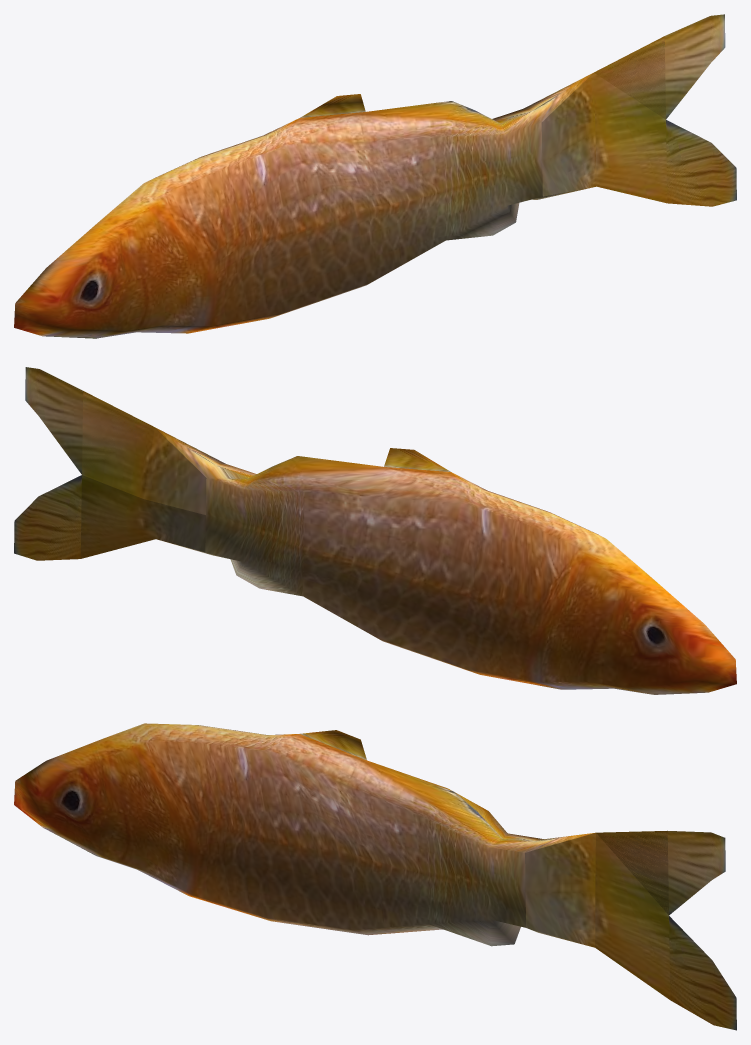
Rendered from fish2.fbx.
3 renders of one model, top to bottom at view 1: azimuth 30°, elevation 25°; view 2: azimuth 150°, elevation 25°; view 3: azimuth 330°, elevation 25°, orthographic.
Parts seen in each view (by area): view 1: Plane.002; view 2: Plane.002; view 3: Plane.002.
Part boxes in pixels (bbox=[...]): Plane.002: bbox=[14, 14, 736, 338]; Plane.002: bbox=[14, 367, 736, 694]; Plane.002: bbox=[14, 723, 736, 1030].
Size of the model in its own units: 441 by 121 by 21.97.
